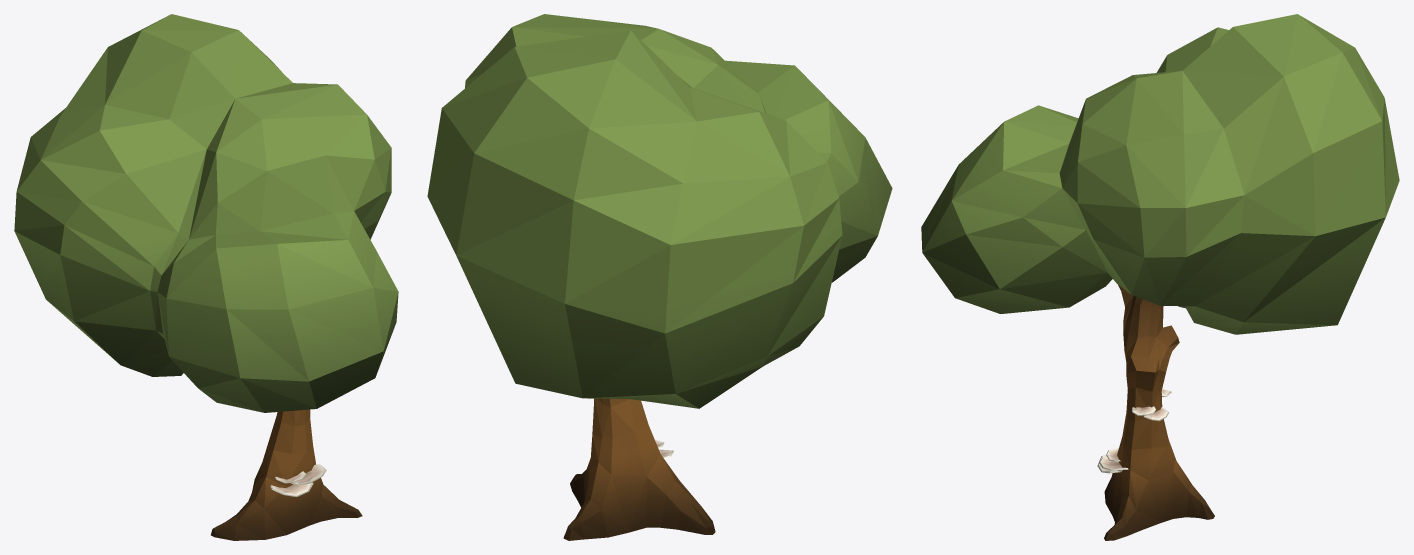
File: Tree-02.FBX
3 views of the same model, side by side, from view 1: azimuth 30°, elevation 25°; view 2: azimuth 150°, elevation 25°; view 3: azimuth 270°, elevation 25° (orthographic). The views are drawn at different scales.
Parts seen in each view (by area): view 1: Tree-02; view 2: Tree-02; view 3: Tree-02.
Boxes of the visible parts, left/top/right/bottom form: Tree-02: left=14, top=14, right=398, bottom=540; Tree-02: left=427, top=14, right=892, bottom=540; Tree-02: left=921, top=14, right=1399, bottom=540.
Size of the model in its own units: 634 by 851 by 797.
Materials: 1 (1 with a texture image).
